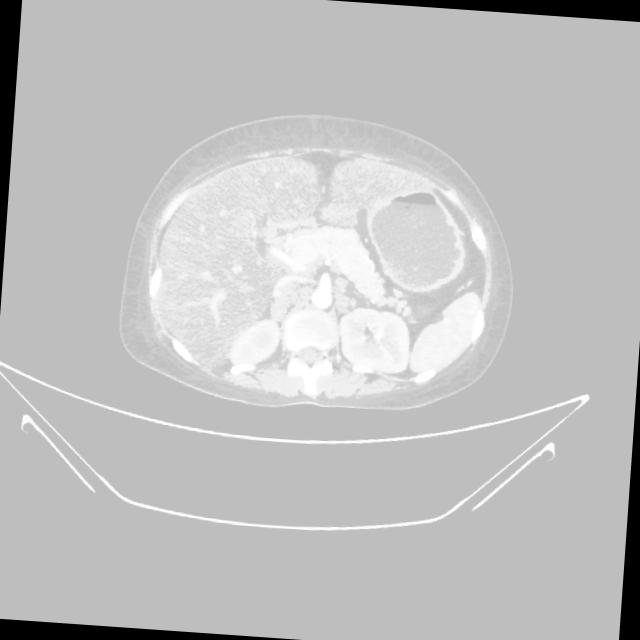NORMAL: (92, 98, 537, 417)
